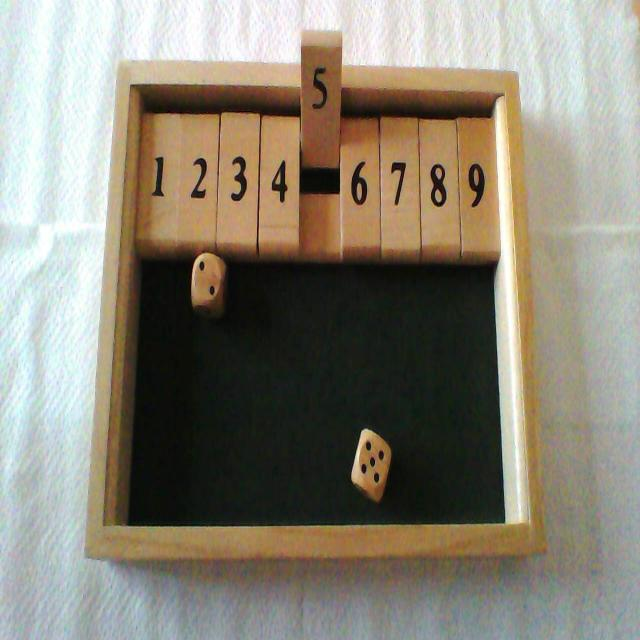2: (186, 249, 232, 318)
5: (348, 421, 396, 509)
C1: (136, 61, 180, 258)
C2: (178, 61, 218, 257)
C3: (218, 62, 260, 260)
C4: (260, 62, 300, 262)
C6: (342, 65, 380, 264)
C7: (380, 65, 419, 264)
C8: (420, 67, 460, 265)
C9: (456, 68, 501, 266)
O5: (301, 30, 343, 263)
